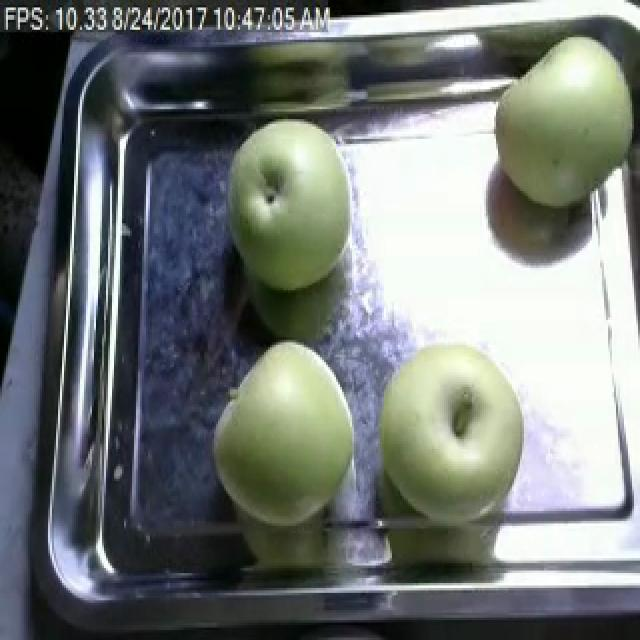50-_ripeness: (371, 334, 533, 556), (182, 122, 357, 283), (483, 32, 629, 220), (194, 350, 336, 504)
